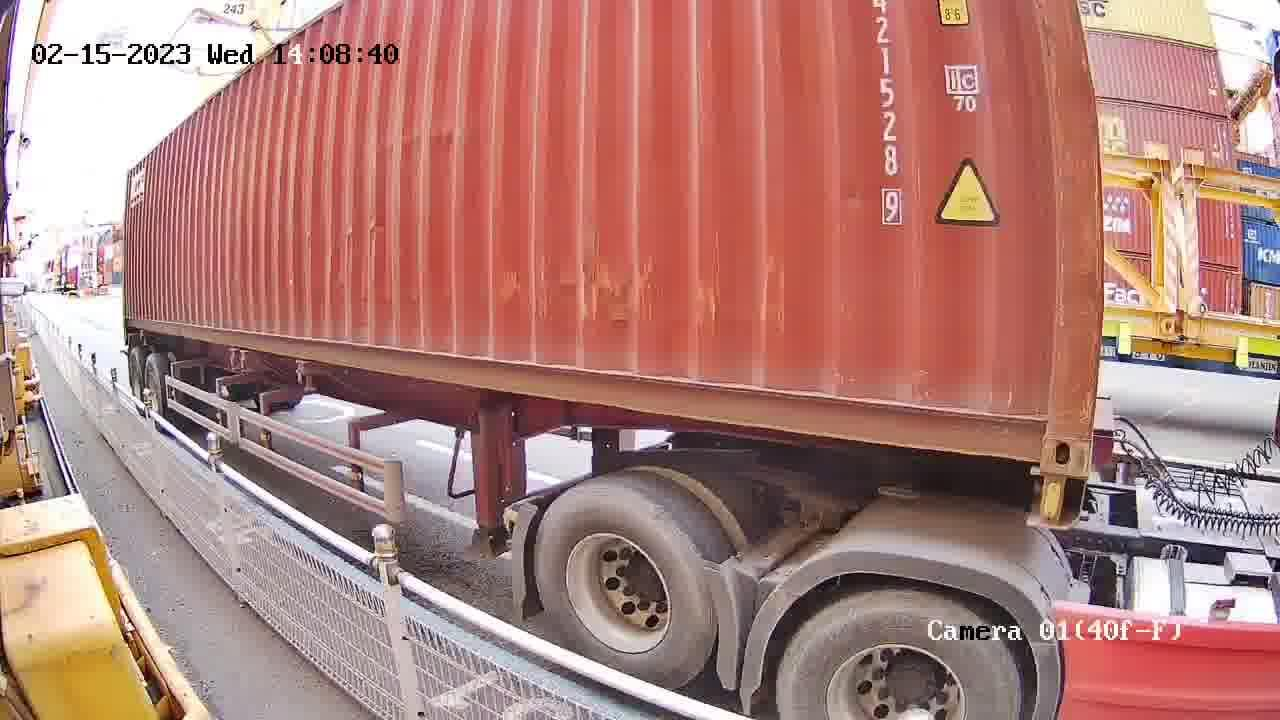Cone: (1029, 472, 1086, 527)
Hole_R: (973, 375, 1097, 476)
Tire: (530, 480, 721, 690), (776, 590, 1022, 718)
